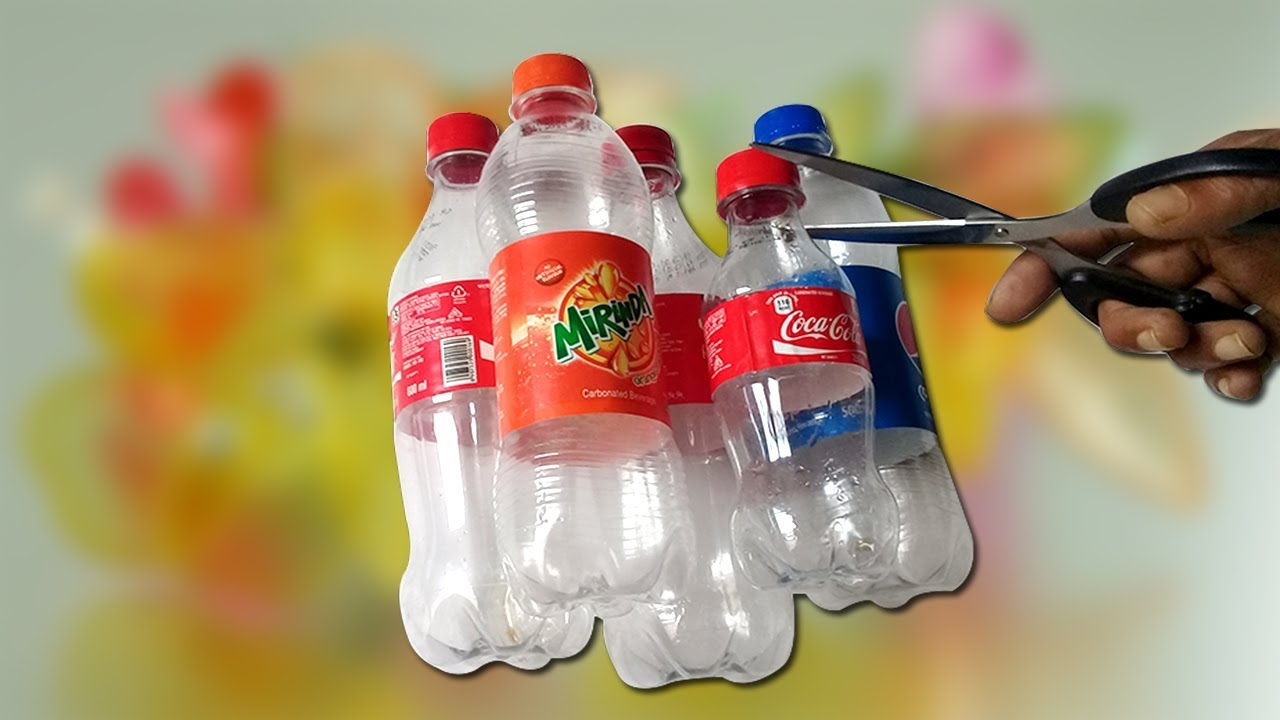plastic_bottle: (662, 28, 1058, 709), (295, 80, 627, 697), (427, 8, 706, 684), (578, 30, 843, 711), (732, 54, 1024, 609)
